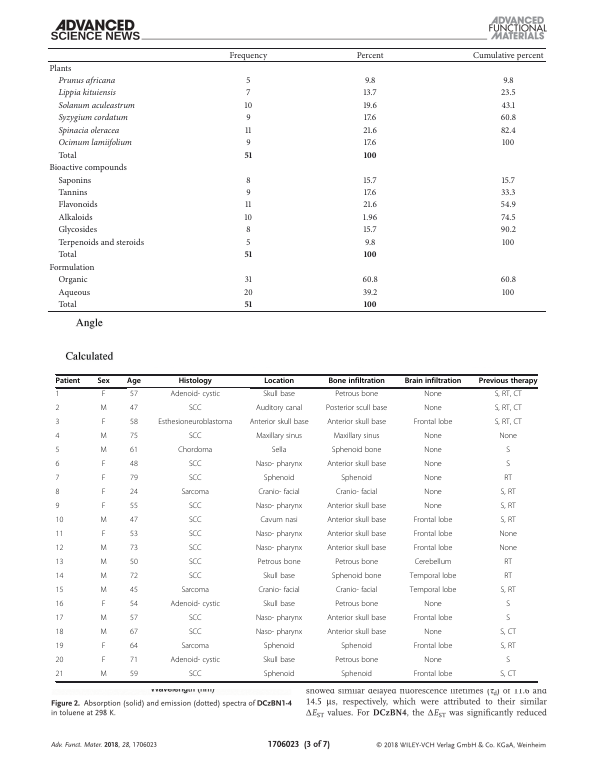borderless: (54, 373, 537, 681), (46, 46, 546, 311)
cell: (57, 237, 145, 248), (48, 162, 128, 173), (57, 100, 136, 111), (57, 137, 133, 148), (472, 50, 545, 61), (157, 418, 233, 428), (57, 113, 129, 123), (57, 125, 120, 136), (57, 75, 116, 86), (325, 404, 388, 414), (326, 418, 387, 428), (326, 460, 387, 470), (326, 502, 387, 512), (326, 516, 387, 526), (326, 530, 387, 540), (326, 544, 387, 554), (326, 614, 387, 624), (326, 628, 387, 638), (249, 418, 309, 428), (57, 88, 117, 98), (478, 377, 538, 386), (327, 377, 386, 386), (404, 377, 462, 386), (169, 390, 221, 400), (169, 600, 221, 610), (169, 656, 221, 666), (48, 262, 95, 273), (331, 446, 382, 456), (331, 572, 382, 582), (255, 404, 303, 414), (255, 432, 303, 442), (255, 460, 303, 470), (255, 502, 303, 512), (255, 530, 303, 540), (255, 544, 303, 554), (409, 572, 457, 582), (409, 586, 457, 596), (255, 614, 303, 624), (255, 628, 303, 638), (333, 432, 380, 442), (334, 390, 379, 400), (334, 558, 379, 568), (334, 600, 379, 610), (334, 656, 379, 666), (257, 488, 301, 498), (257, 558, 301, 568), (257, 586, 301, 596), (335, 488, 378, 498), (335, 586, 378, 596), (229, 50, 268, 61), (57, 200, 99, 210), (57, 225, 98, 235), (57, 212, 94, 223), (413, 418, 453, 428), (259, 516, 299, 526), (413, 516, 453, 526), (413, 530, 453, 540), (413, 544, 453, 554), (413, 614, 453, 624), (413, 642, 453, 652), (413, 670, 453, 680), (414, 558, 452, 568), (57, 287, 91, 298), (177, 446, 213, 456), (57, 274, 89, 285), (57, 175, 92, 185), (57, 187, 88, 198), (262, 390, 296, 400), (262, 572, 296, 582), (262, 600, 296, 610), (262, 656, 296, 666), (340, 474, 373, 484), (340, 642, 373, 652), (340, 670, 373, 680), (263, 474, 295, 484), (263, 642, 295, 652), (263, 670, 295, 680), (356, 50, 385, 61), (178, 377, 213, 386), (180, 488, 210, 498), (180, 586, 210, 596), (180, 642, 210, 652), (494, 390, 523, 400), (494, 404, 523, 414), (494, 418, 523, 428), (263, 377, 295, 386), (48, 63, 72, 73), (55, 377, 81, 386), (57, 150, 78, 161), (57, 299, 78, 310), (57, 250, 78, 260), (423, 390, 443, 400), (423, 404, 443, 414), (423, 432, 443, 442), (498, 432, 518, 442), (423, 446, 443, 456), (423, 460, 443, 470), (423, 474, 443, 484), (423, 488, 443, 498), (423, 502, 443, 512), (498, 530, 518, 540), (498, 544, 518, 554), (423, 600, 443, 610), (423, 628, 443, 638), (423, 656, 443, 666), (500, 125, 517, 136), (500, 212, 517, 223), (362, 274, 379, 285), (500, 274, 517, 285), (499, 628, 517, 638), (499, 670, 517, 680), (362, 100, 378, 111), (362, 125, 378, 136), (500, 187, 516, 198), (362, 212, 378, 223), (362, 287, 378, 298), (500, 488, 517, 498), (500, 502, 517, 512), (500, 516, 517, 526), (500, 586, 517, 596), (500, 642, 517, 652), (500, 88, 517, 98), (500, 113, 517, 123), (500, 200, 517, 210), (500, 225, 517, 235), (501, 100, 516, 111), (271, 446, 287, 456), (362, 200, 378, 210), (363, 137, 377, 148), (501, 137, 515, 148), (363, 187, 377, 198), (501, 237, 515, 248), (501, 287, 515, 298), (363, 88, 378, 98), (363, 175, 378, 185), (501, 175, 516, 185), (363, 225, 378, 235), (126, 377, 142, 386), (502, 75, 515, 86), (188, 404, 202, 414), (188, 432, 202, 442), (188, 460, 202, 470), (188, 474, 202, 484), (188, 502, 202, 512), (188, 516, 202, 526), (188, 530, 202, 540), (188, 544, 202, 554), (188, 558, 202, 568), (188, 572, 202, 582), (188, 614, 202, 624), (188, 628, 202, 638), (188, 670, 202, 680), (363, 113, 377, 123), (96, 377, 111, 386), (363, 299, 378, 308), (364, 75, 376, 86), (364, 237, 376, 248), (243, 287, 254, 298), (363, 150, 378, 158), (363, 250, 378, 258), (129, 390, 139, 400), (129, 404, 139, 414), (129, 418, 139, 428), (129, 432, 139, 442), (129, 446, 139, 456), (129, 460, 139, 470), (129, 474, 139, 484), (503, 474, 513, 484), (129, 488, 139, 498), (129, 502, 139, 512), (129, 516, 139, 526), (129, 530, 139, 540), (129, 544, 139, 554), (129, 558, 139, 568), (503, 558, 513, 568), (129, 572, 139, 582), (503, 572, 513, 582), (129, 586, 139, 596), (129, 600, 139, 610), (129, 614, 139, 624), (129, 628, 139, 638), (129, 642, 139, 652), (129, 656, 139, 666), (129, 670, 139, 680), (244, 100, 253, 111), (244, 212, 253, 223), (244, 274, 253, 285), (99, 404, 108, 414), (99, 432, 108, 442), (99, 446, 108, 456), (55, 516, 64, 526), (99, 516, 108, 526), (55, 530, 64, 540), (55, 544, 64, 554), (99, 544, 108, 554), (55, 558, 64, 568), (99, 558, 108, 568), (55, 572, 64, 582), (99, 572, 108, 582), (55, 586, 64, 596), (99, 586, 108, 596), (55, 600, 64, 610), (55, 614, 64, 624), (99, 614, 108, 624), (55, 628, 64, 638), (99, 628, 108, 638), (55, 642, 64, 652), (55, 656, 64, 666), (55, 670, 64, 680), (99, 670, 108, 680), (244, 125, 252, 136), (244, 299, 253, 308), (244, 200, 252, 210), (245, 137, 252, 148), (245, 187, 252, 198), (244, 150, 253, 158), (244, 250, 253, 258), (245, 113, 252, 123), (245, 175, 252, 185), (245, 225, 252, 235), (245, 75, 251, 86), (245, 237, 251, 248), (505, 446, 511, 456), (505, 460, 511, 470), (505, 600, 511, 610), (505, 614, 511, 624), (505, 656, 511, 666), (245, 88, 251, 98), (55, 390, 60, 400), (101, 390, 106, 400), (55, 404, 60, 414), (55, 418, 60, 428), (101, 418, 106, 428), (55, 432, 60, 442), (55, 446, 60, 456), (55, 460, 60, 470), (101, 460, 106, 470), (55, 474, 60, 484), (101, 474, 106, 484), (55, 488, 60, 498), (101, 488, 106, 498), (55, 502, 60, 512), (101, 502, 106, 512), (101, 530, 106, 540), (101, 600, 106, 610), (101, 642, 106, 652), (101, 656, 106, 666)
